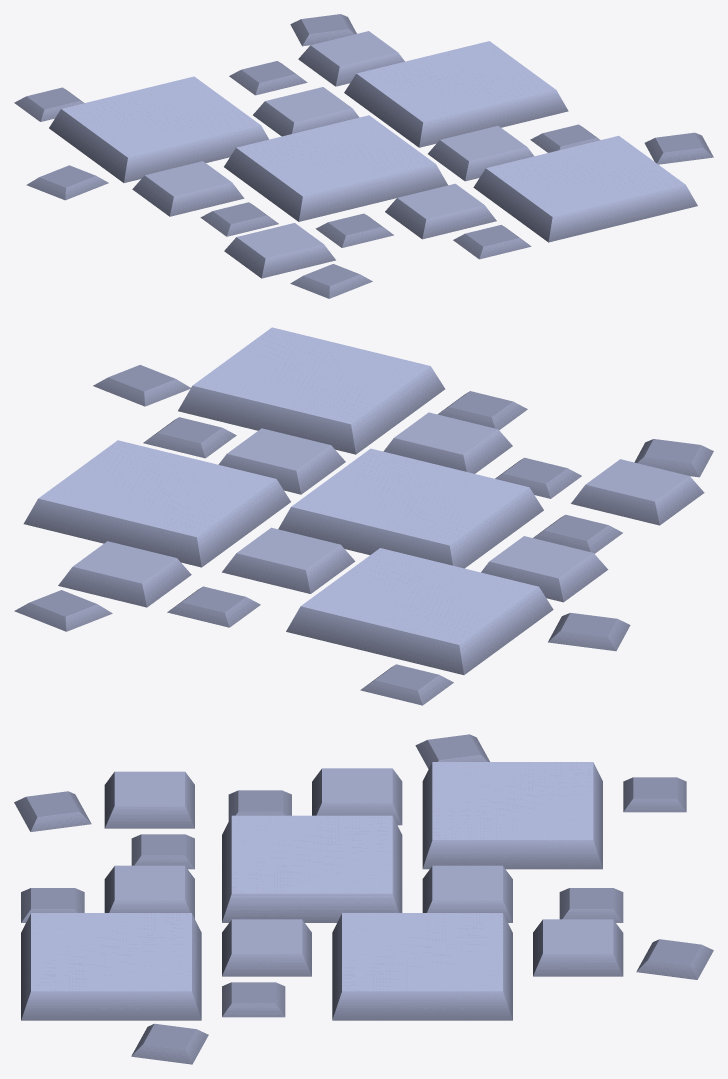
File: road.005_lev2.glb
The picture shows the model from 3 angles, top to bottom: view 1: azimuth 30°, elevation 25°; view 2: azimuth 150°, elevation 25°; view 3: azimuth 270°, elevation 25°; orthographic projection. The views are drawn at different scales.
Visible parts, largest first — view 1: road.005_lev2; view 2: road.005_lev2; view 3: road.005_lev2.
Boxes of the visible parts, left/top/right/bottom form: road.005_lev2: left=14, top=14, right=713, bottom=298; road.005_lev2: left=14, top=327, right=713, bottom=705; road.005_lev2: left=14, top=734, right=713, bottom=1064.
Bounding box in the file's own units: 3.41 × 0.1192 × 3.08.
Materials: 1 (1 with a texture image).
